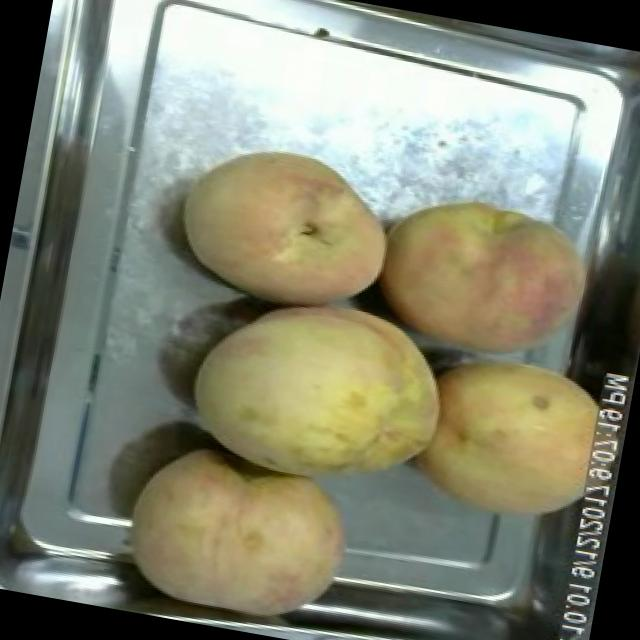Fruit: (170, 274, 466, 514), (104, 424, 375, 640), (356, 174, 606, 386), (161, 125, 411, 332), (398, 333, 630, 544)
